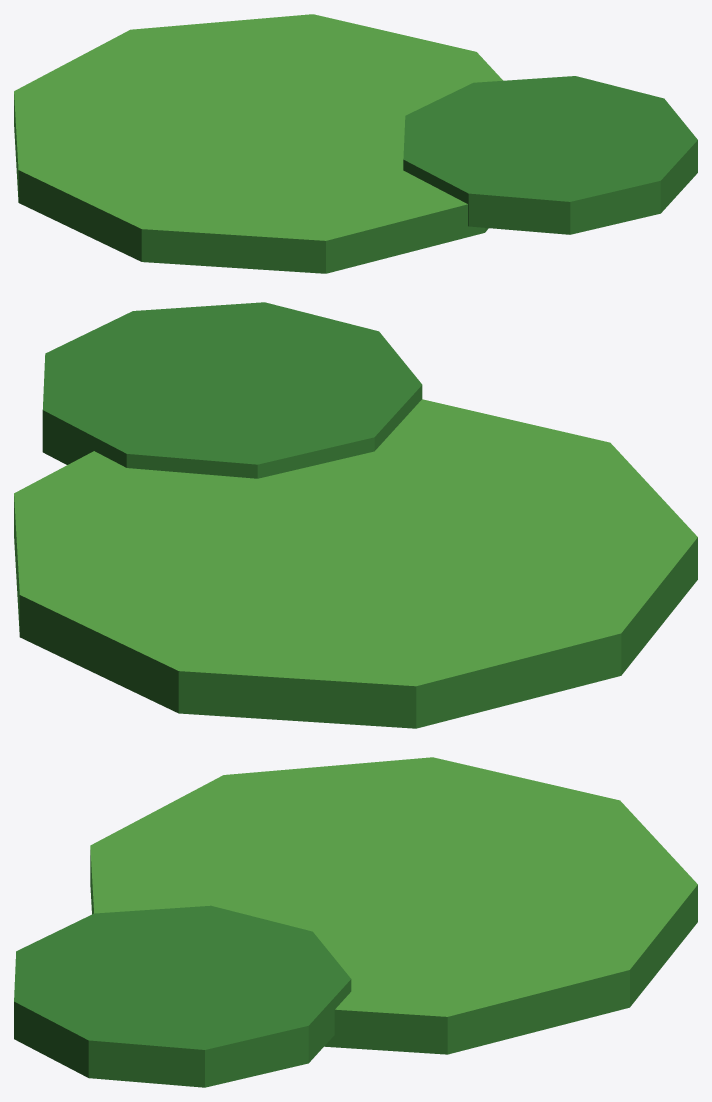
The model's file is lily_small.glb.
3 views of the same model, one above another, from view 1: azimuth 30°, elevation 25°; view 2: azimuth 150°, elevation 25°; view 3: azimuth 270°, elevation 25° (orthographic). The views are drawn at different scales.
Visible parts, largest first — view 1: lily_small; view 2: lily_small; view 3: lily_small.
Part boxes in pixels (<box>): lily_small: <box>14,14,697,273</box>; lily_small: <box>14,302,697,728</box>; lily_small: <box>14,757,697,1087</box>.
Size of the model in its own units: 0.2084 by 0.016 by 0.1973.
Materials: 1 (1 with a texture image).
